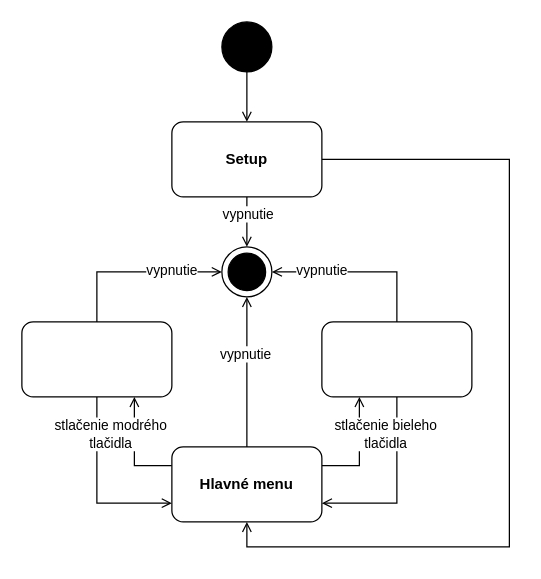
The diagram is 541 pixels wide and 579 high, and some of its shapes have lost their labels. The box of each missing label's shape, as (x1, y1, x2, y2) in pixels:
Basic mode: (321, 321, 472, 397)
Pomodoro: (21, 321, 172, 397)
